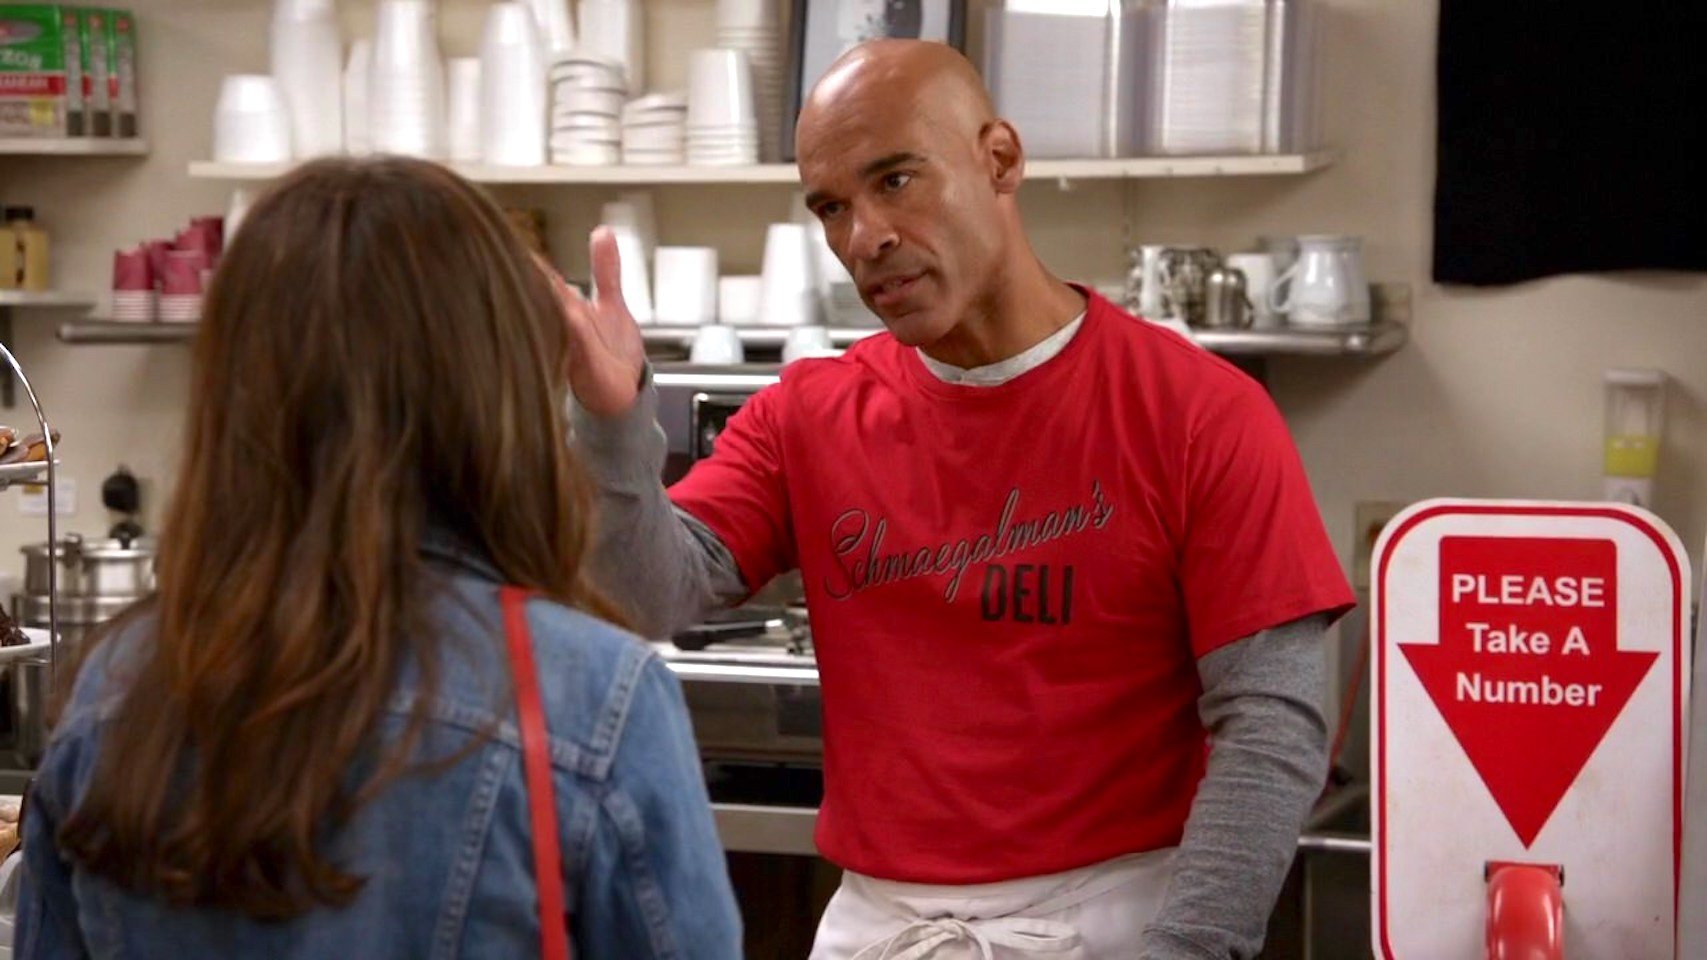person: (544, 30, 1330, 943), (70, 165, 748, 960)
